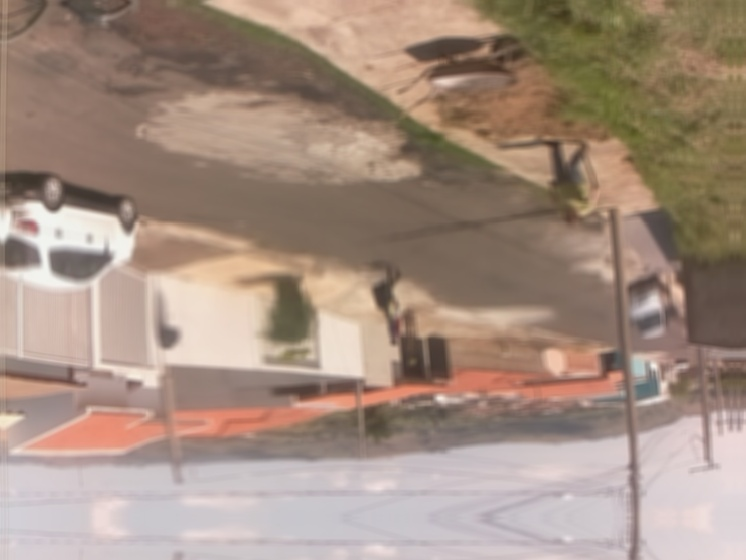person: (541, 139, 600, 228), (378, 261, 402, 347)
